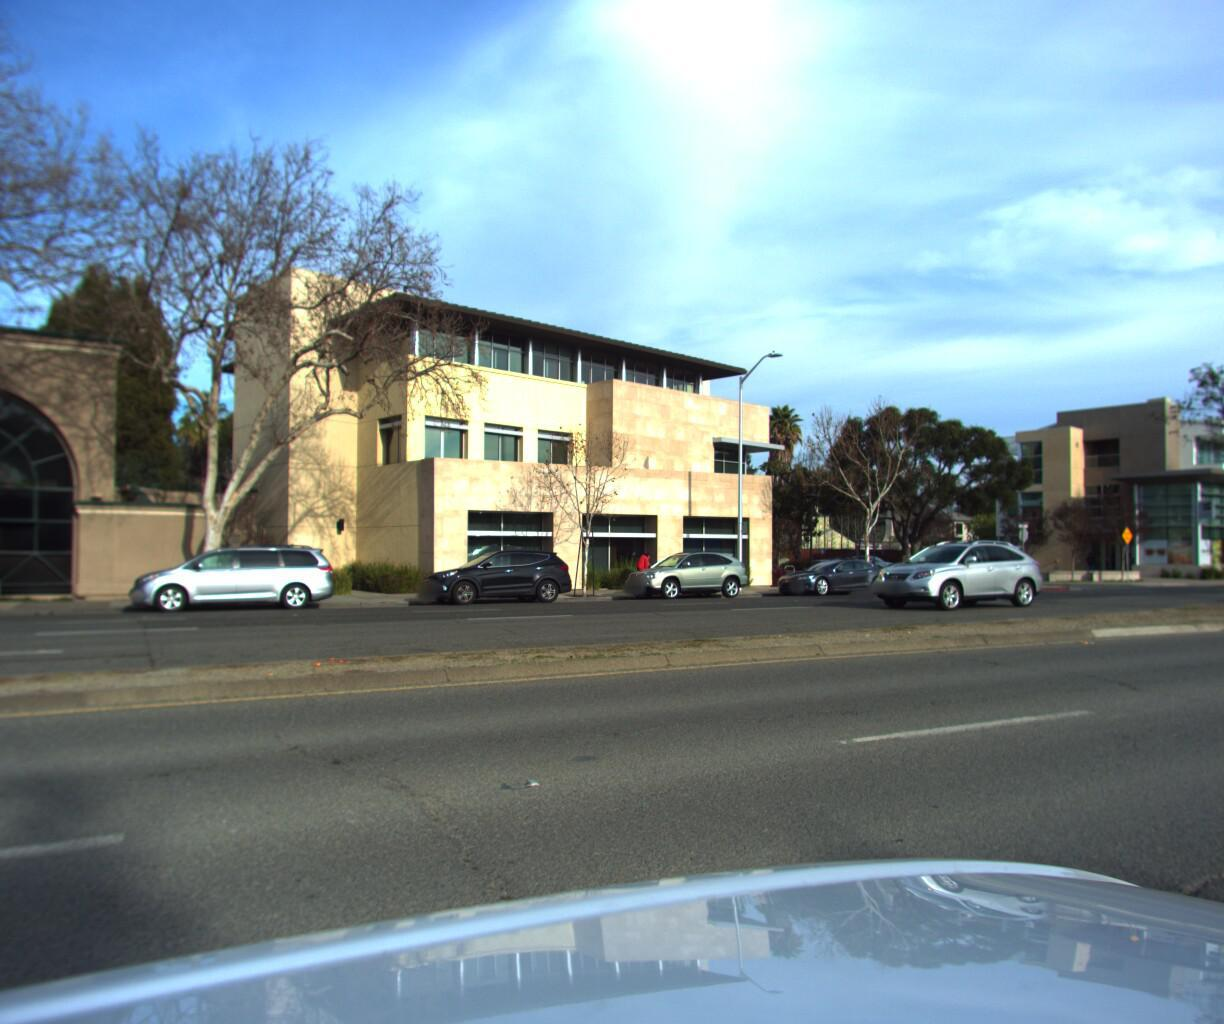car: (121, 544, 344, 620), (860, 537, 1052, 608), (411, 546, 582, 610), (616, 547, 750, 601), (772, 554, 893, 596)
